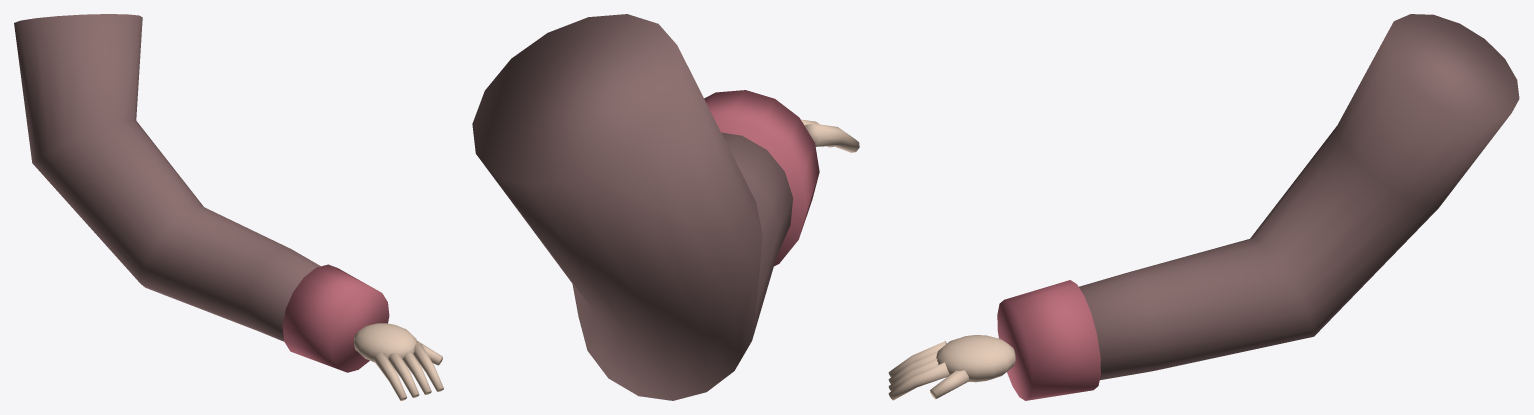
The model's file is opp_arm_l.glb.
The picture shows the model from 3 angles, left to right: view 1: azimuth 30°, elevation 25°; view 2: azimuth 150°, elevation 25°; view 3: azimuth 270°, elevation 25°; orthographic projection. The views are drawn at different scales.
Visible parts, largest first — view 1: ArmSleeve, ArmCuff, ArmHandPalm, ArmHandFinger_0, ArmHandFinger_3, ArmHandFinger_1, ArmHandFinger_2; view 2: ArmSleeve, ArmCuff, ArmHandFinger_0; view 3: ArmSleeve, ArmCuff, ArmHandPalm, ArmHandFinger_3, ArmHandThumb.
Part boxes in pixels (<box>): ArmSleeve: <box>14,14,320,341</box>; ArmCuff: <box>282,264,389,372</box>; ArmHandPalm: <box>354,323,417,362</box>; ArmHandFinger_0: <box>373,352,407,400</box>; ArmHandFinger_3: <box>413,343,443,391</box>; ArmHandFinger_1: <box>388,353,419,397</box>; ArmHandFinger_2: <box>403,351,431,394</box>; ArmSleeve: <box>472,14,793,400</box>; ArmCuff: <box>704,90,819,266</box>; ArmHandFinger_0: <box>804,123,859,152</box>; ArmSleeve: <box>1079,14,1519,380</box>; ArmCuff: <box>997,280,1100,400</box>; ArmHandPalm: <box>936,335,1015,382</box>; ArmHandFinger_3: <box>888,362,949,400</box>; ArmHandThumb: <box>930,370,969,399</box>.
Bounding box in the file's own units: 0.2449 × 0.2907 × 0.536.
